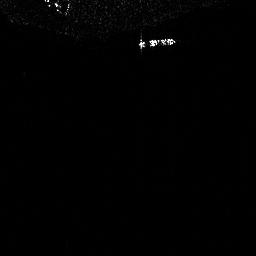ship: (135, 36, 177, 50)
